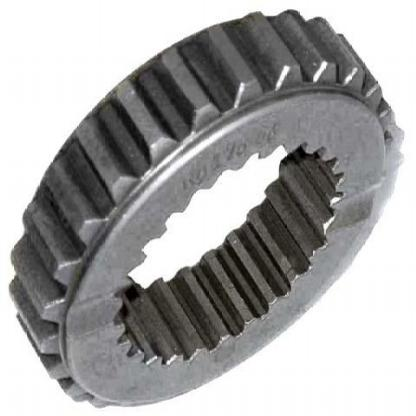FOD: (6, 7, 413, 412)
